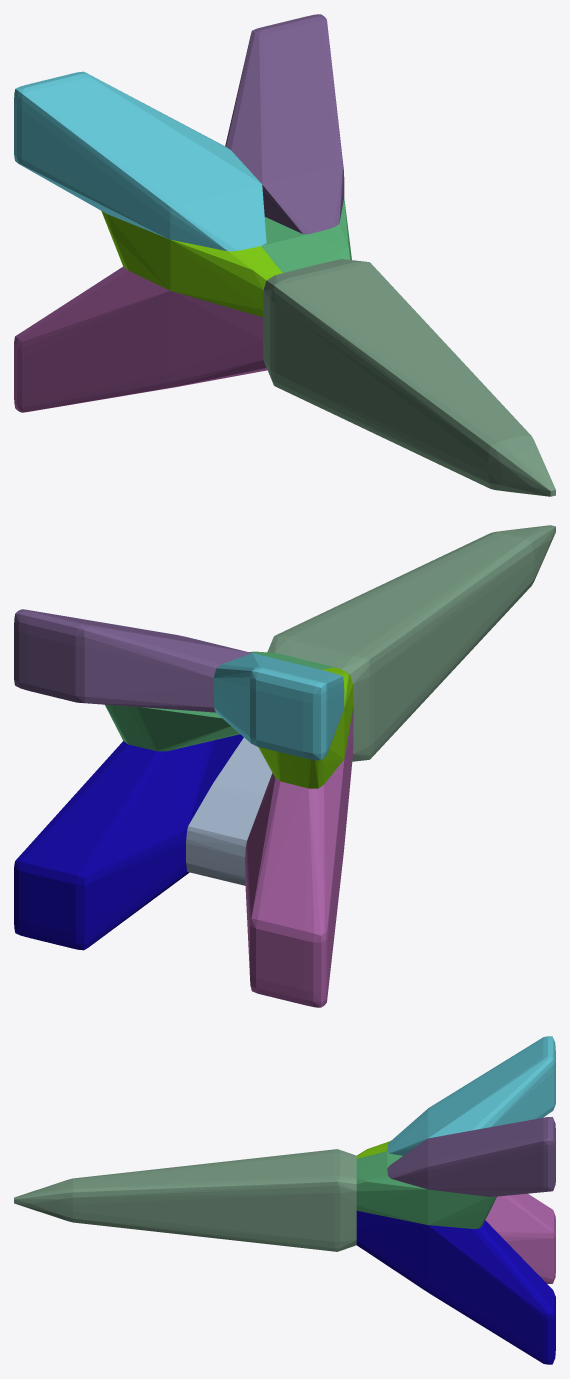
The model's file is eiffel_coacd.obj.
The picture shows the model from 3 angles, top to bottom: view 1: azimuth 30°, elevation 25°; view 2: azimuth 150°, elevation 25°; view 3: azimuth 270°, elevation 25°; orthographic projection. The views are drawn at different scales.
Visible parts, largest first — view 1: geometry_0, geometry_2, geometry_7, geometry_1, geometry_4, geometry_3; view 2: geometry_5, geometry_0, geometry_7, geometry_1, geometry_2, geometry_6, geometry_3, geometry_4; view 3: geometry_0, geometry_5, geometry_1, geometry_2, geometry_3, geometry_7.
Part boxes in pixels (box(x1,y1,x2,y2)): geometry_0: box(263, 259, 555, 496); geometry_2: box(14, 71, 266, 251); geometry_7: box(14, 267, 267, 412); geometry_1: box(225, 14, 344, 234); geometry_4: box(101, 211, 282, 317); geometry_3: box(261, 198, 351, 272); geometry_5: box(14, 734, 243, 950); geometry_0: box(267, 525, 555, 761); geometry_7: box(245, 713, 353, 1007); geometry_1: box(14, 609, 251, 712); geometry_2: box(213, 653, 344, 760); geometry_6: box(186, 737, 272, 885); geometry_3: box(105, 651, 332, 751); geometry_4: box(258, 667, 353, 788); geometry_0: box(14, 1149, 356, 1251); geometry_5: box(356, 1211, 555, 1364); geometry_1: box(387, 1117, 555, 1196); geometry_2: box(387, 1036, 555, 1155); geometry_3: box(356, 1151, 496, 1228); geometry_7: box(485, 1193, 555, 1283).
Bounding box in the file's own units: 56.3 × 56.3 × 122.
